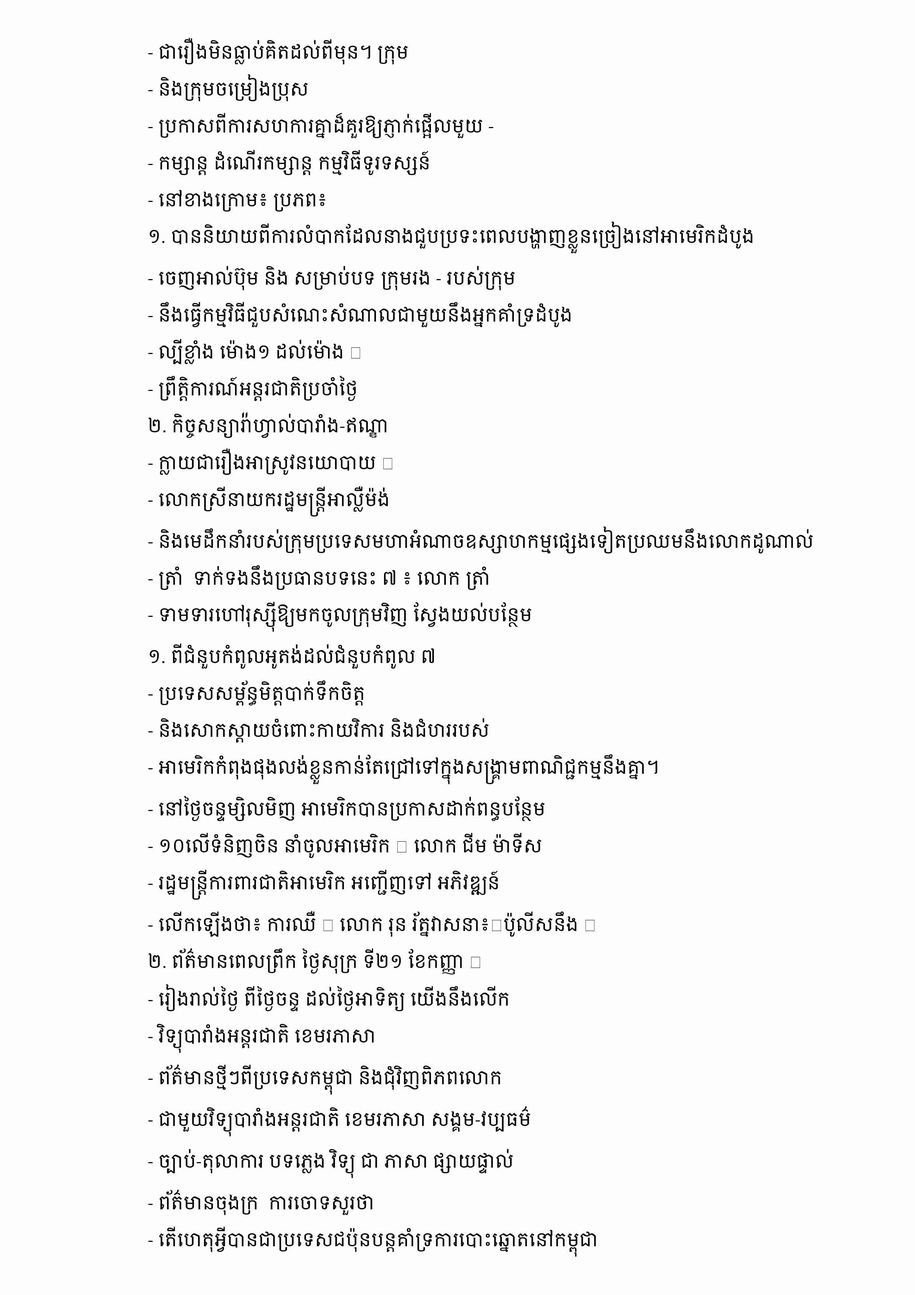text: (148, 221, 759, 254), (148, 526, 819, 554), (148, 754, 664, 784), (148, 1227, 603, 1257), (148, 1106, 536, 1137), (148, 911, 601, 937), (148, 602, 537, 632), (148, 1064, 507, 1095), (148, 1149, 519, 1178), (148, 302, 578, 327), (148, 870, 505, 900), (148, 796, 550, 821), (148, 833, 547, 858), (148, 984, 515, 1011), (148, 266, 521, 291), (148, 948, 487, 975), (148, 113, 499, 138), (148, 565, 496, 590), (148, 718, 494, 743), (148, 486, 395, 517), (148, 643, 441, 669), (148, 38, 414, 65), (148, 150, 435, 175), (148, 448, 399, 475), (148, 1024, 381, 1053), (148, 412, 393, 438), (148, 1189, 379, 1215), (148, 680, 370, 706), (148, 339, 367, 364), (148, 376, 363, 401), (148, 74, 314, 102), (148, 190, 332, 212)
